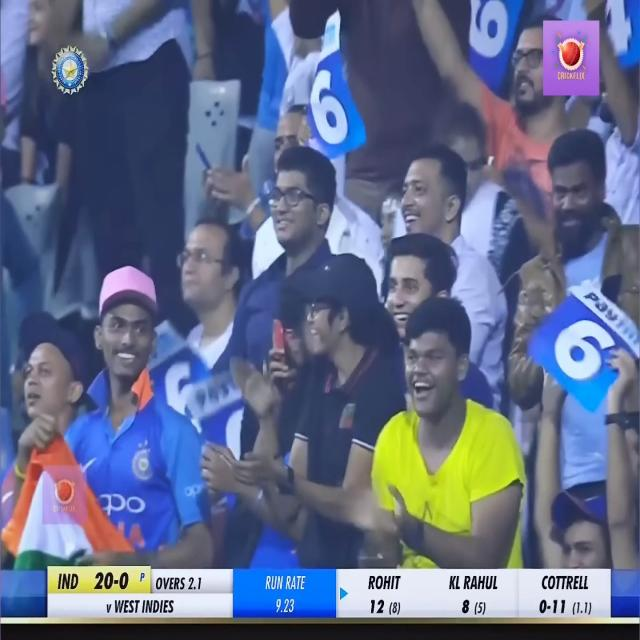fully_visible: (570, 276, 640, 355)
